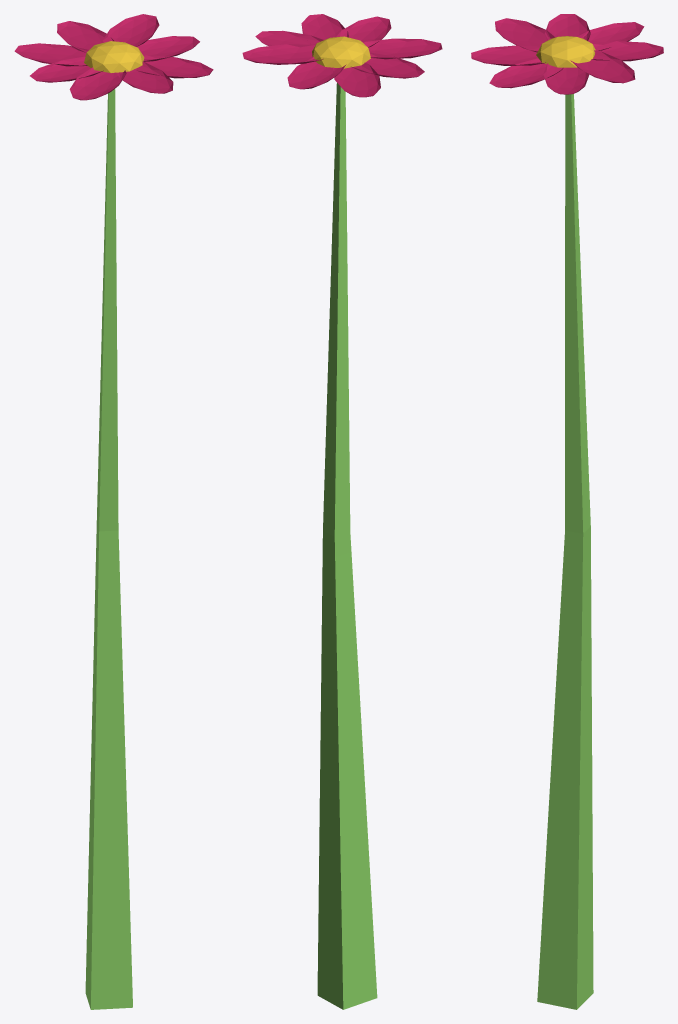
File: Flor_MarinaPardalP01.fbx
3 views of the same model, side by side, from view 1: azimuth 30°, elevation 25°; view 2: azimuth 150°, elevation 25°; view 3: azimuth 270°, elevation 25° (orthographic).
Visible parts, largest first — view 1: Cube.007, Icosphere.029, Icosphere.028; view 2: Cube.007, Icosphere.029, Icosphere.028; view 3: Cube.007, Icosphere.029, Icosphere.028.
Boxes of the visible parts, bbox=[...] form: Cube.007: bbox=[85, 89, 132, 1009]; Icosphere.029: bbox=[14, 14, 213, 100]; Icosphere.028: bbox=[84, 41, 144, 72]; Cube.007: bbox=[317, 83, 377, 1009]; Icosphere.029: bbox=[242, 14, 442, 97]; Icosphere.028: bbox=[312, 36, 370, 68]; Cube.007: bbox=[537, 94, 593, 1009]; Icosphere.029: bbox=[471, 14, 663, 94]; Icosphere.028: bbox=[536, 36, 595, 67].
Size of the model in its own units: 1139 by 6360 by 1157.
